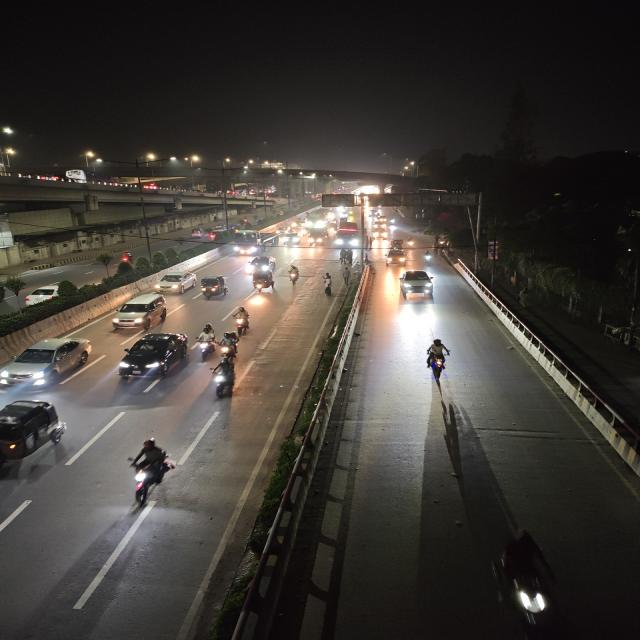bus: (335, 220, 361, 251)
car: (1, 334, 94, 393), (114, 329, 190, 381), (106, 293, 170, 330), (153, 269, 199, 298), (399, 269, 437, 297), (245, 252, 277, 273), (384, 248, 411, 266), (283, 232, 301, 246), (370, 227, 389, 240)
cng: (0, 396, 69, 466), (198, 274, 230, 300), (250, 270, 277, 293), (188, 227, 203, 237)
motorcycle: (119, 437, 181, 507), (422, 337, 455, 382), (214, 358, 241, 400), (190, 322, 215, 360), (230, 304, 259, 336), (214, 332, 242, 359), (285, 264, 301, 286), (420, 248, 436, 268), (121, 250, 137, 267), (407, 235, 416, 249)
pedestrian: (322, 277, 334, 298), (341, 265, 352, 285), (346, 247, 355, 268), (338, 248, 347, 266)
truck: (232, 227, 280, 254), (308, 227, 329, 246)
